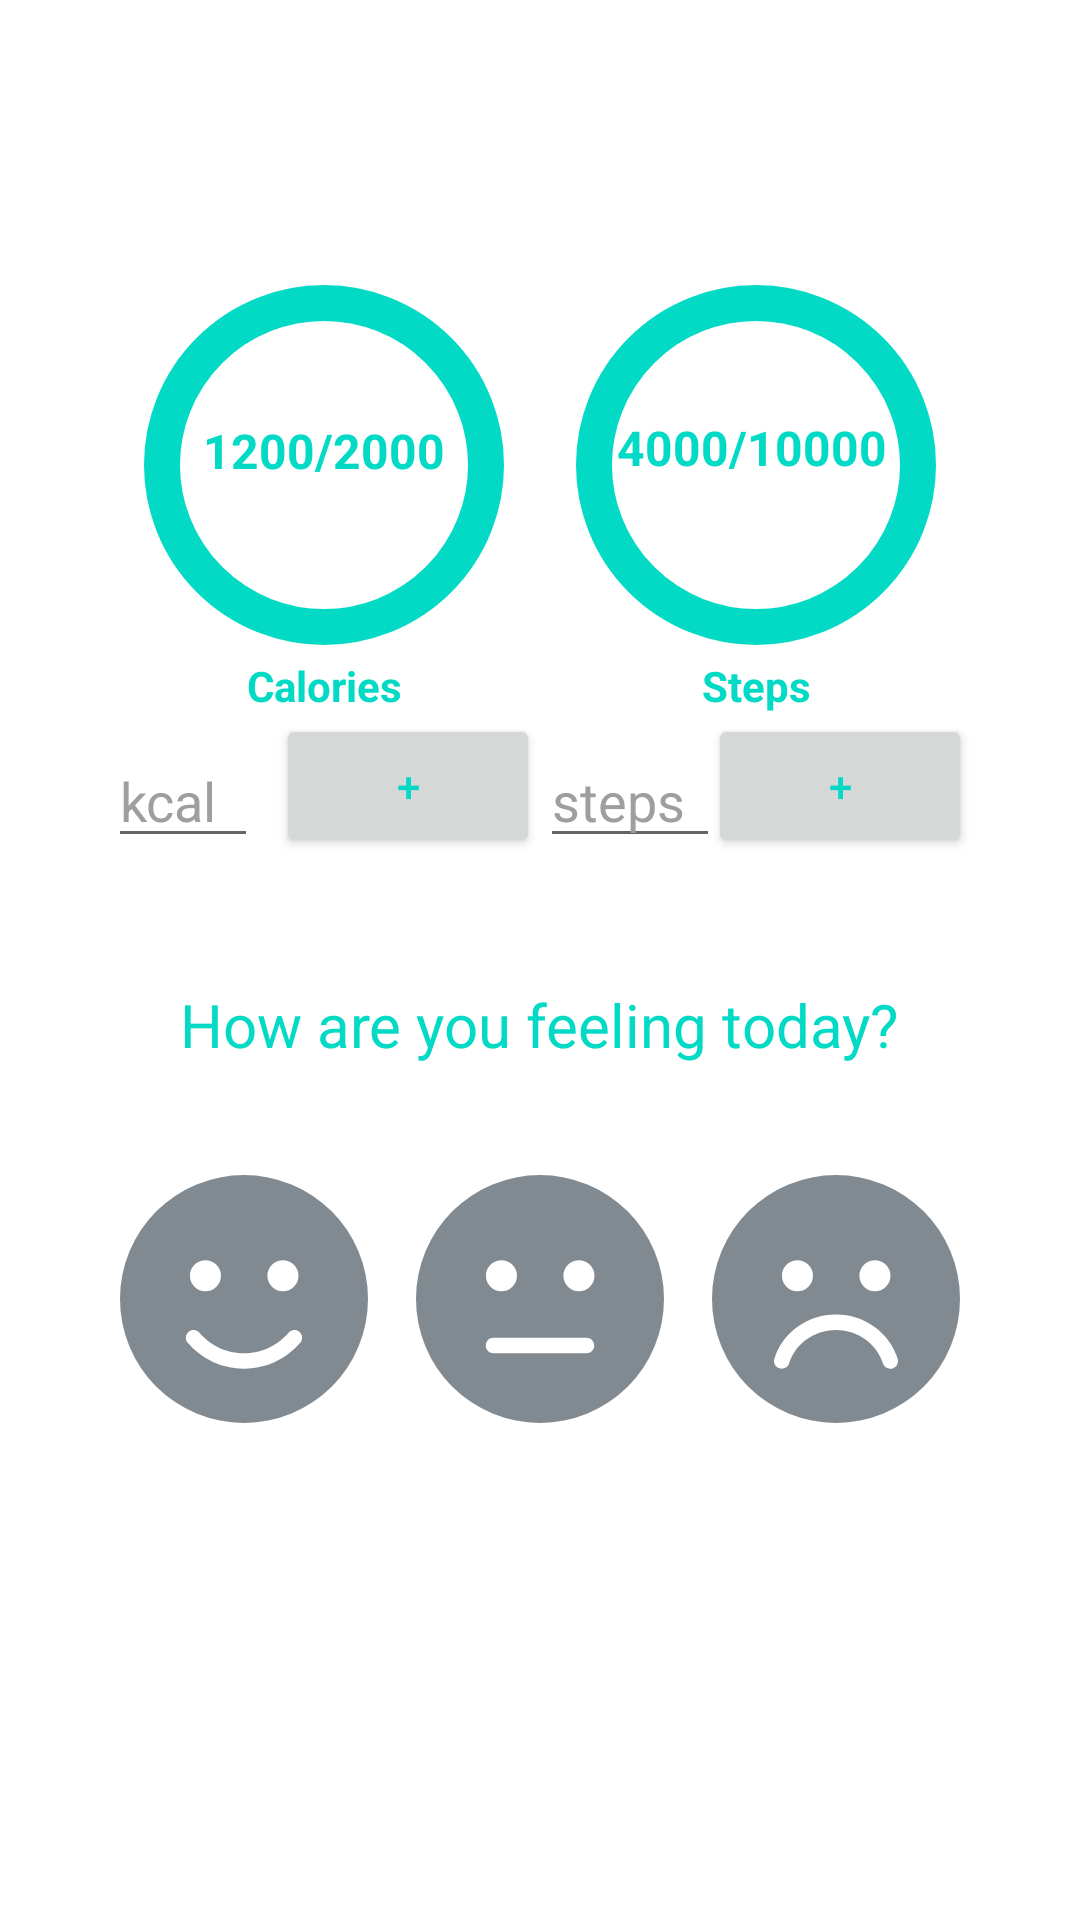

Screen size 1080 × 1920. Icon name, then its center in pixels as (x,y):
face frown: (836,1299)
face meh: (540,1299)
face smile: (244,1299)
